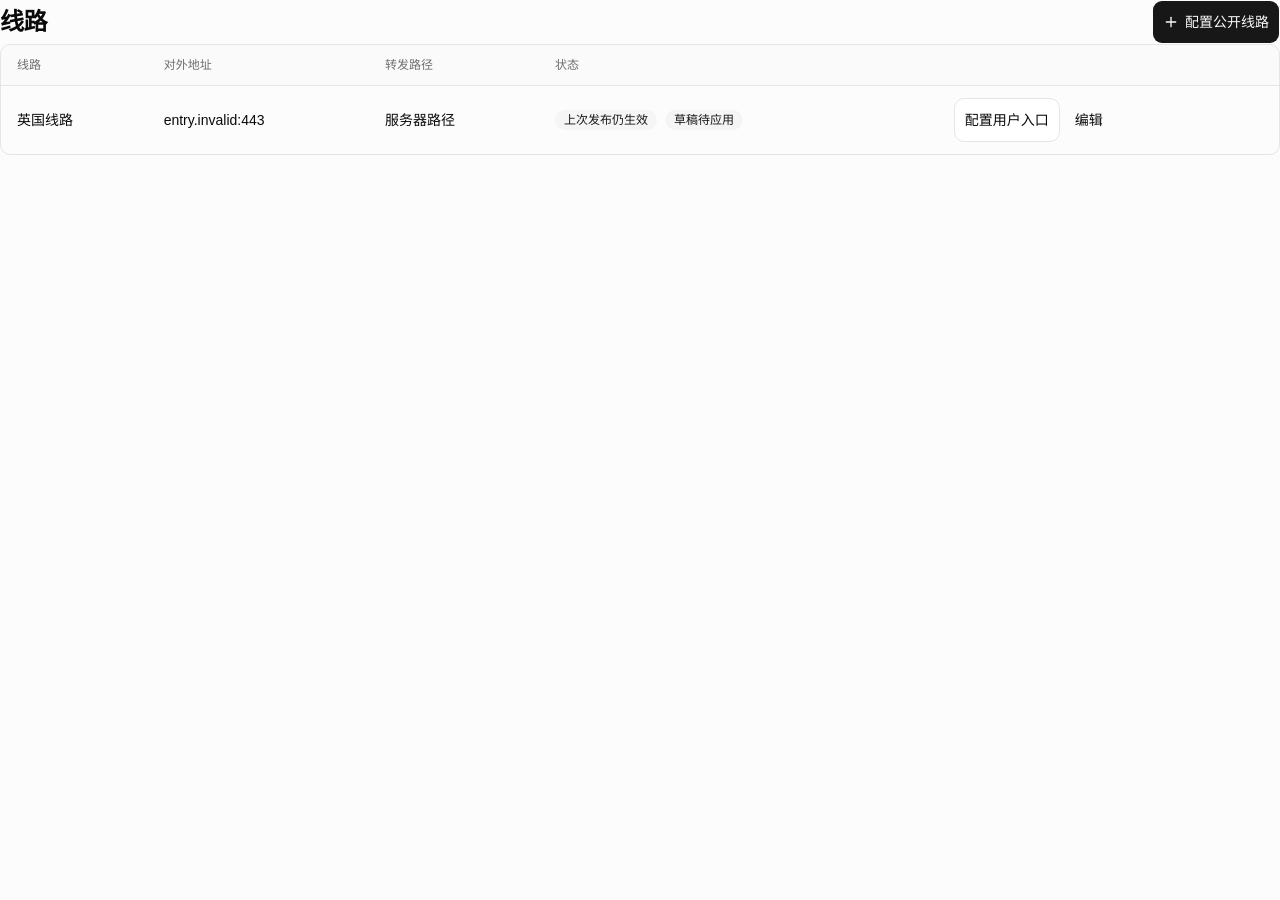
compares saved and confirmed snapshot paths rather than mutable inventory
This screenshot has width=1280, height=900.
Click the button "英国线路": point(45, 120) [17,110,73,130]
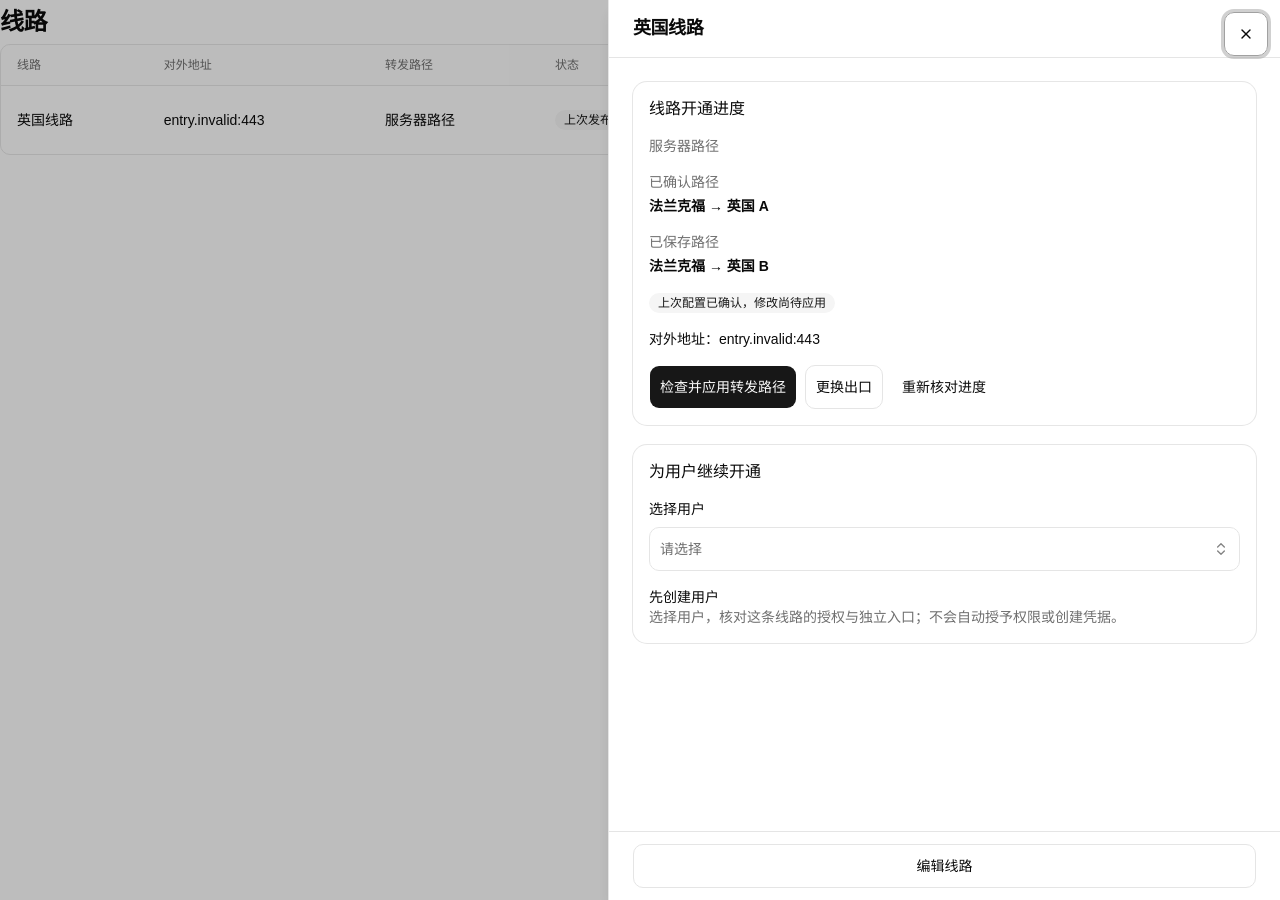
Now the element labelled "已确认路径" reads "已确认路径 法兰克福 → 英国 A", box [649,174,769,214]
Now the element labelled "已保存路径" reads "已保存路径 法兰克福 → 英国 B", box [649,234,769,274]
